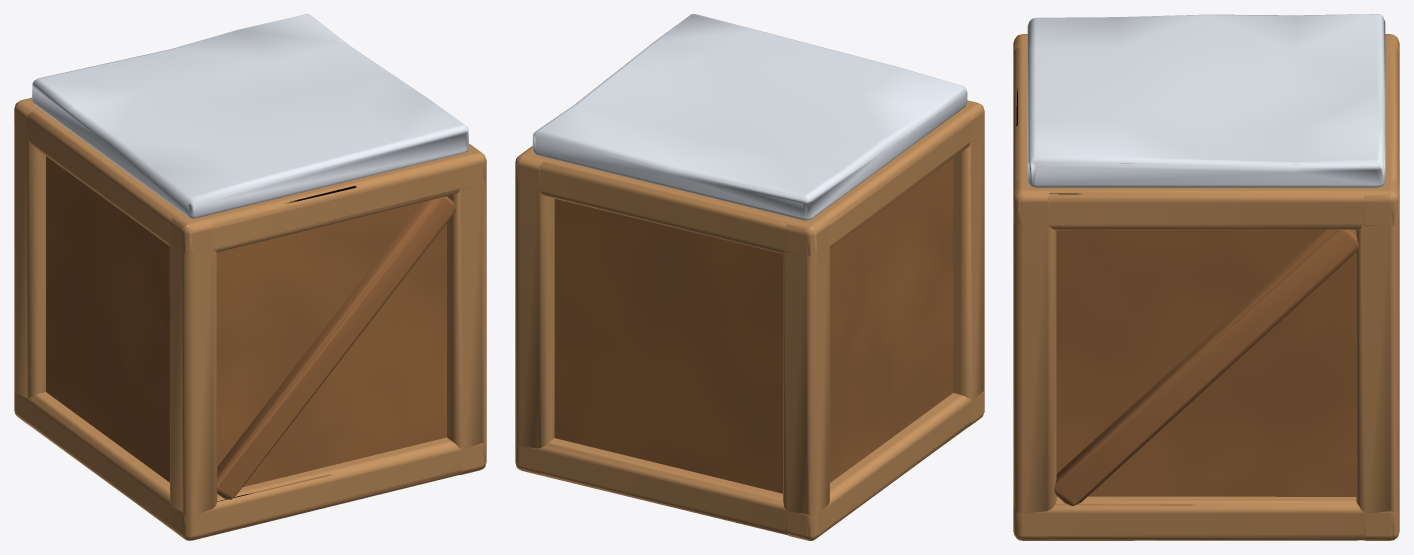
File: crate.glb
3 views of the same model, side by side, from view 1: azimuth 30°, elevation 25°; view 2: azimuth 150°, elevation 25°; view 3: azimuth 270°, elevation 25° (orthographic). The views are drawn at different scales.
Visible parts, largest first — view 1: crate_core; view 2: crate_core; view 3: crate_core.
Part boxes in pixels (x1,y1,x2,y2): crate_core: (14,14,486,540); crate_core: (515,14,984,540); crate_core: (1013,14,1399,540).
Size of the model in its own units: 0.8 by 0.8652 by 0.8.
Materials: 1 (1 with a texture image).
